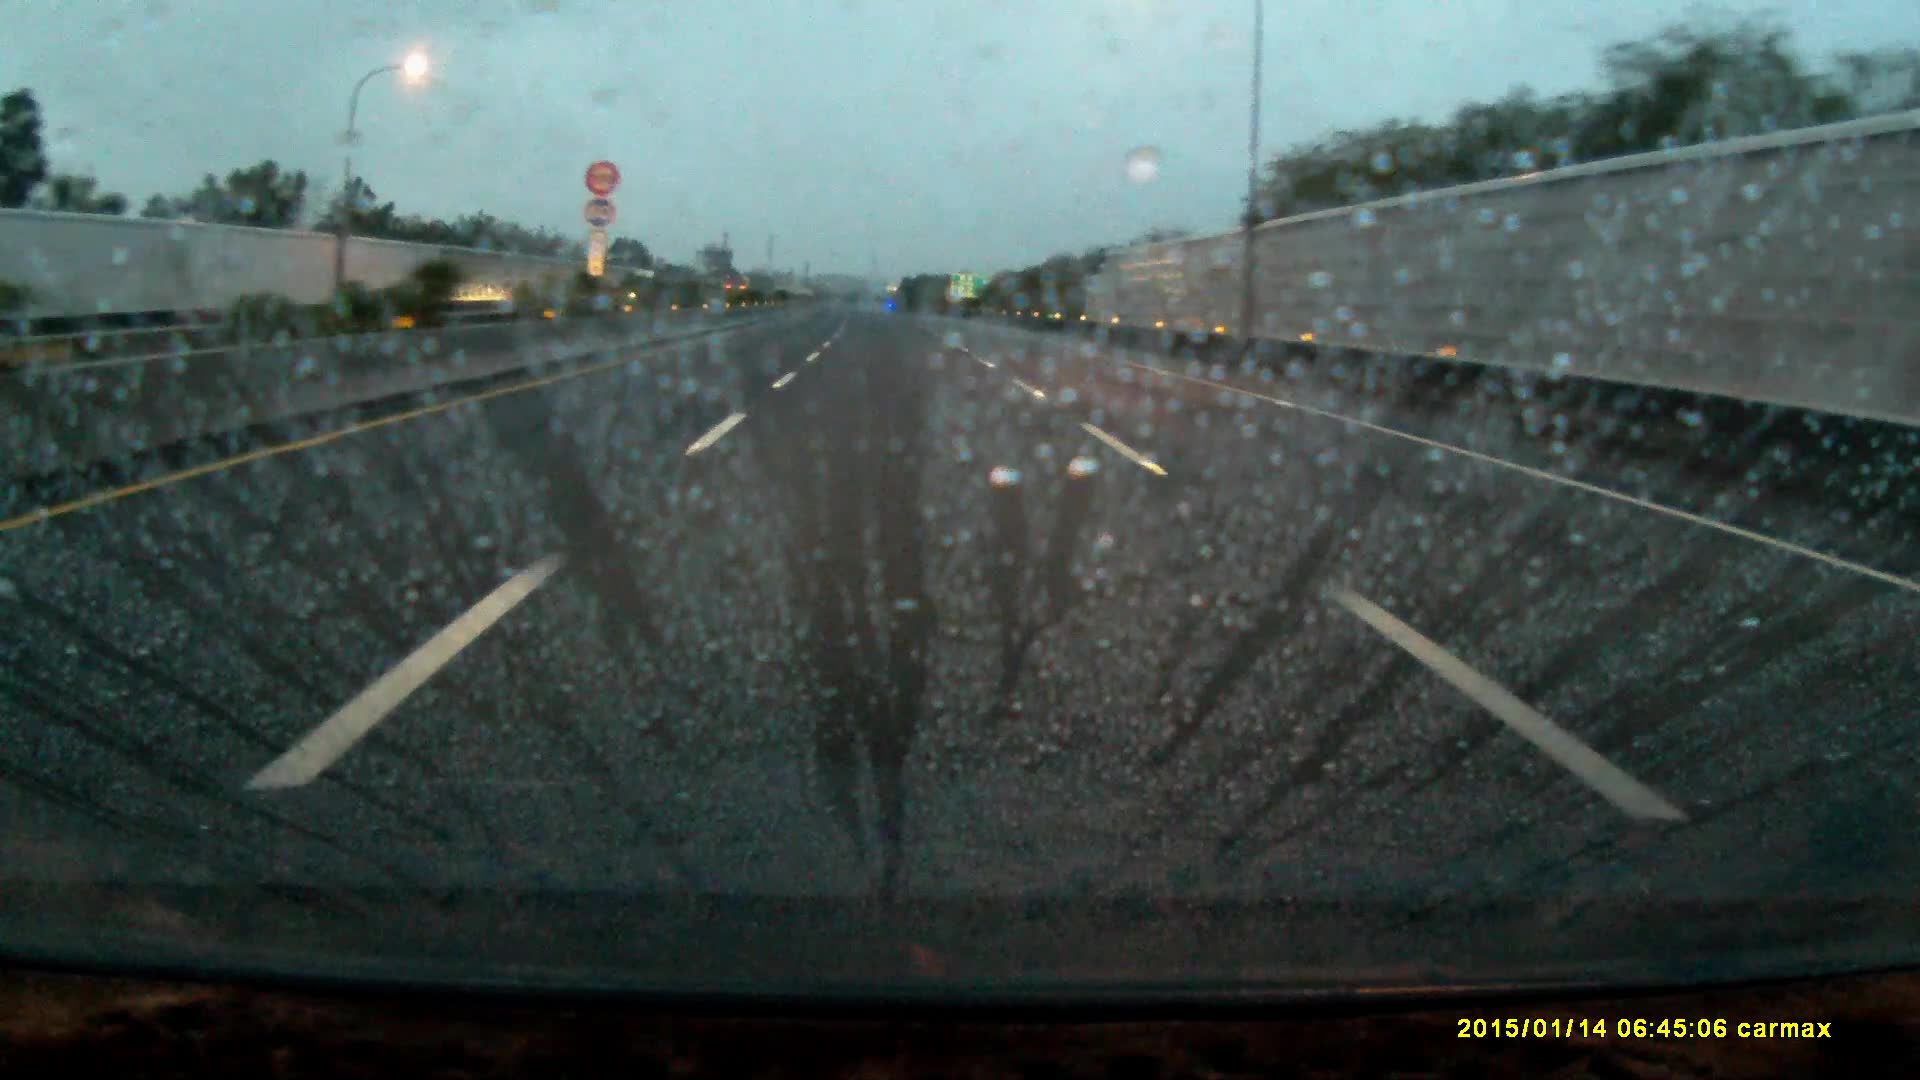vehicle: (727, 282, 754, 309)
